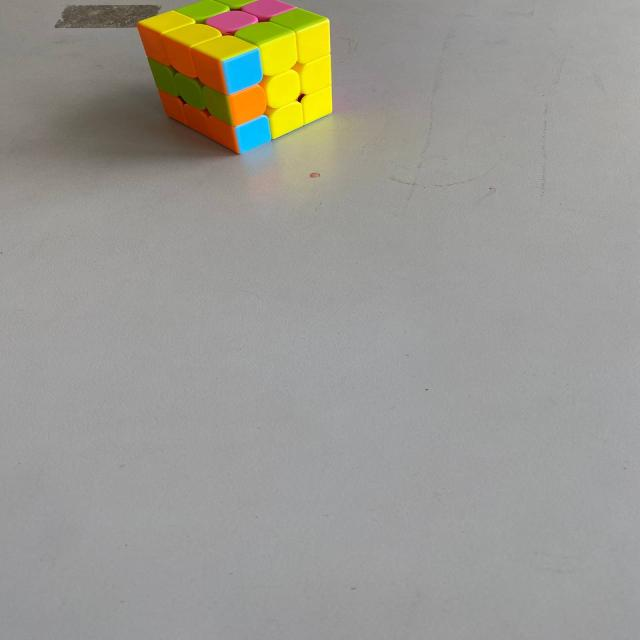Cube-3x3: (122, 3, 366, 156)
